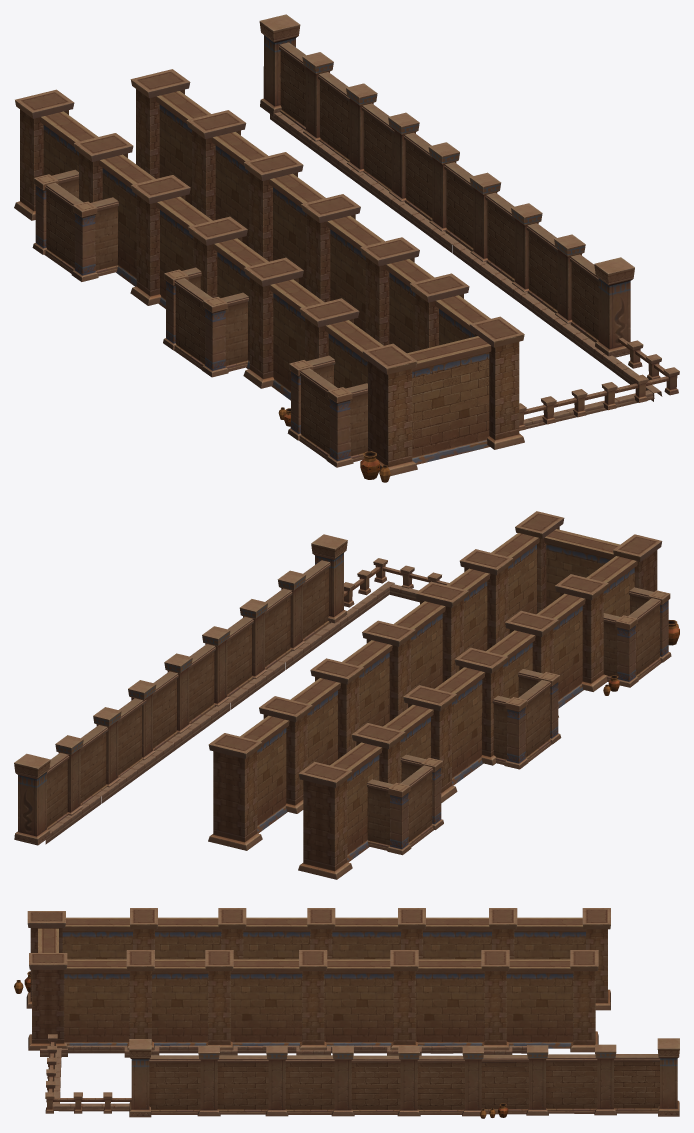
File: Area_09_15.fbx
3 renders of one model, top to bottom at view 1: azimuth 30°, elevation 25°; view 2: azimuth 150°, elevation 25°; view 3: azimuth 270°, elevation 25°, orthographic. The views are drawn at different scales.
Parts seen in each view (by area): view 1: Area_09_15; view 2: Area_09_15; view 3: Area_09_15.
Boxes of the visible parts, x1,y1,x2,y2 form: Area_09_15: (14, 14, 679, 482); Area_09_15: (14, 511, 679, 879); Area_09_15: (14, 908, 679, 1118).
Bounding box in the file's own units: 2592 × 816 × 5350.
